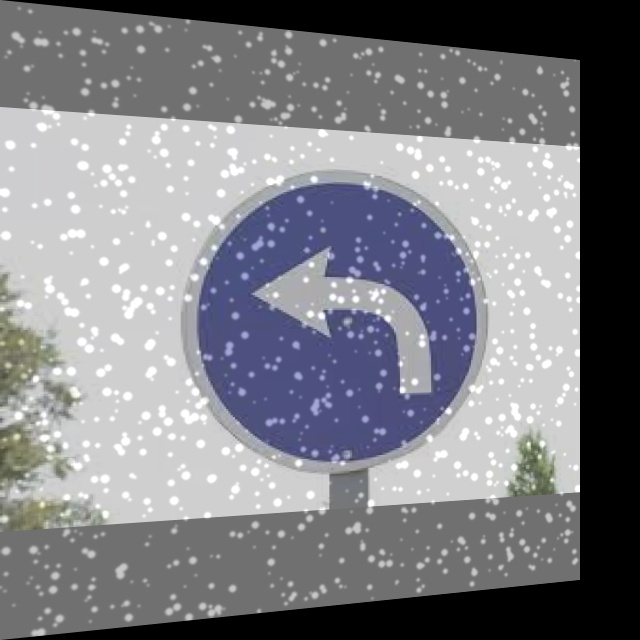Compulsory_Turn_Left_Ahead: (188, 159, 485, 478)
